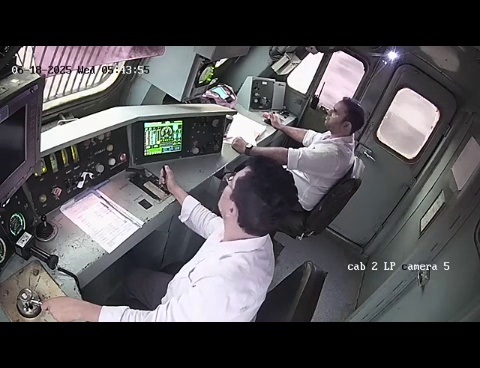brake_applied: (1, 254, 111, 321)
horn_inactive: (26, 209, 64, 246)
